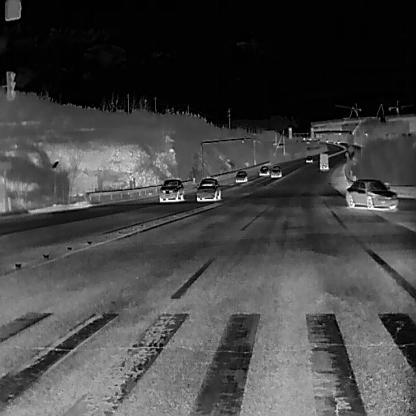car: (345, 177, 399, 209), (195, 177, 221, 202), (158, 178, 184, 201), (318, 152, 328, 170), (234, 170, 247, 183), (269, 165, 281, 177), (257, 164, 269, 176), (304, 155, 312, 163), (325, 138, 329, 143), (336, 139, 340, 143), (332, 140, 336, 144), (317, 139, 320, 142)
